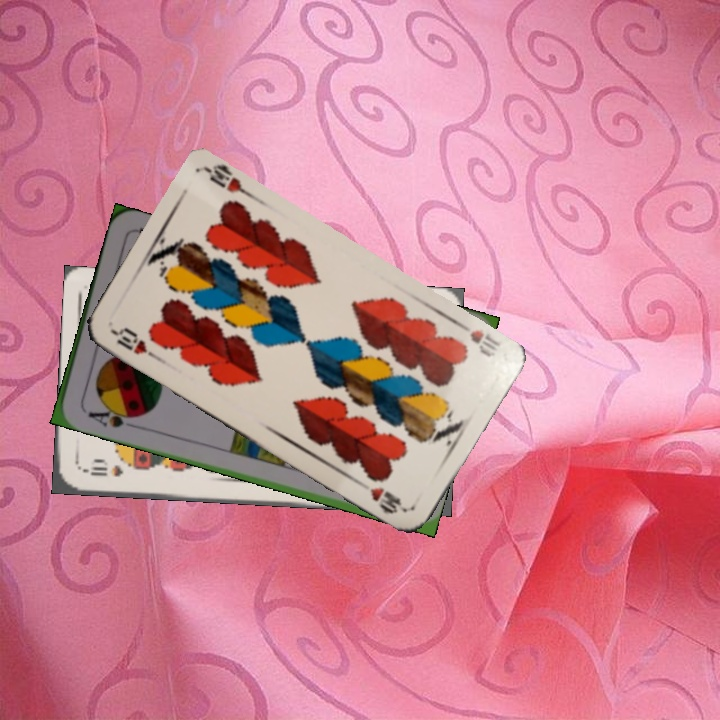H10: (452, 317, 503, 361), (106, 323, 160, 362)
S10: (79, 461, 126, 480)
SA: (84, 402, 140, 430)
